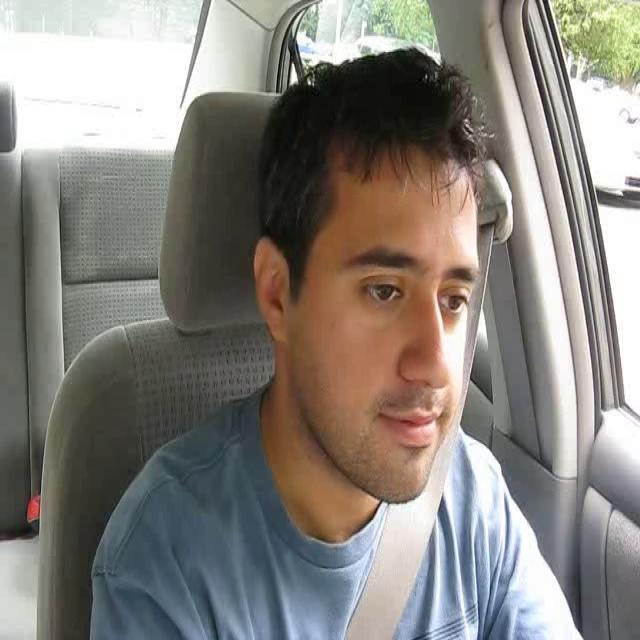close: (379, 404, 450, 451)
